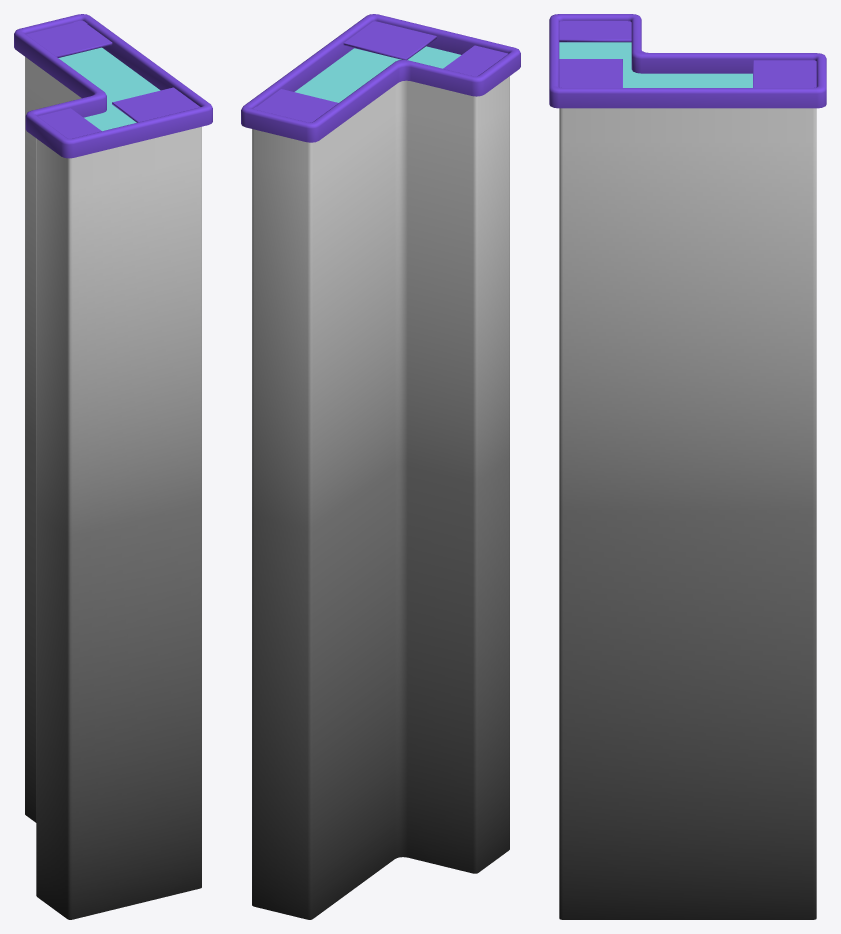
3 views of the same model, side by side, from view 1: azimuth 30°, elevation 25°; view 2: azimuth 150°, elevation 25°; view 3: azimuth 270°, elevation 25° (orthographic). The views are drawn at different scales.
Parts seen in each view (by area): view 1: L_2x3, L_2x3_Cap, L_2x3_Stencil; view 2: L_2x3, L_2x3_Cap, L_2x3_Stencil; view 3: L_2x3, L_2x3_Cap, L_2x3_Stencil.
Boxes of the visible parts, bbox=[...] form: L_2x3: bbox=[14, 14, 212, 919]; L_2x3_Cap: bbox=[26, 23, 200, 138]; L_2x3_Stencil: bbox=[58, 47, 160, 131]; L_2x3: bbox=[241, 14, 520, 919]; L_2x3_Cap: bbox=[257, 21, 507, 122]; L_2x3_Stencil: bbox=[295, 46, 460, 102]; L_2x3: bbox=[549, 14, 826, 919]; L_2x3_Cap: bbox=[559, 21, 816, 87]; L_2x3_Stencil: bbox=[559, 42, 752, 87].
Size of the model in its own units: 2 by 9.94 by 3.
3 materials, 1 textured.
